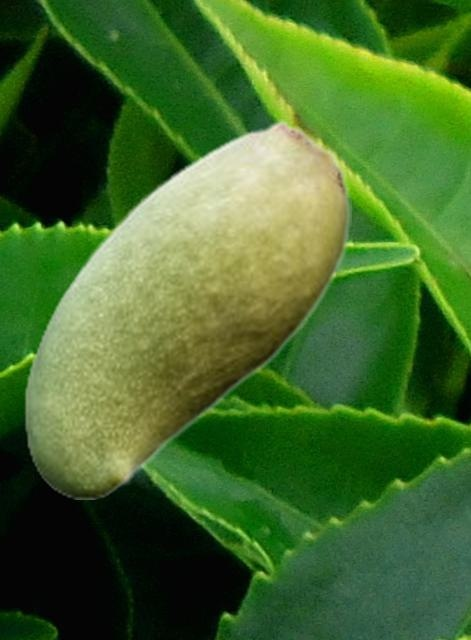green_mango: (23, 119, 350, 498)
